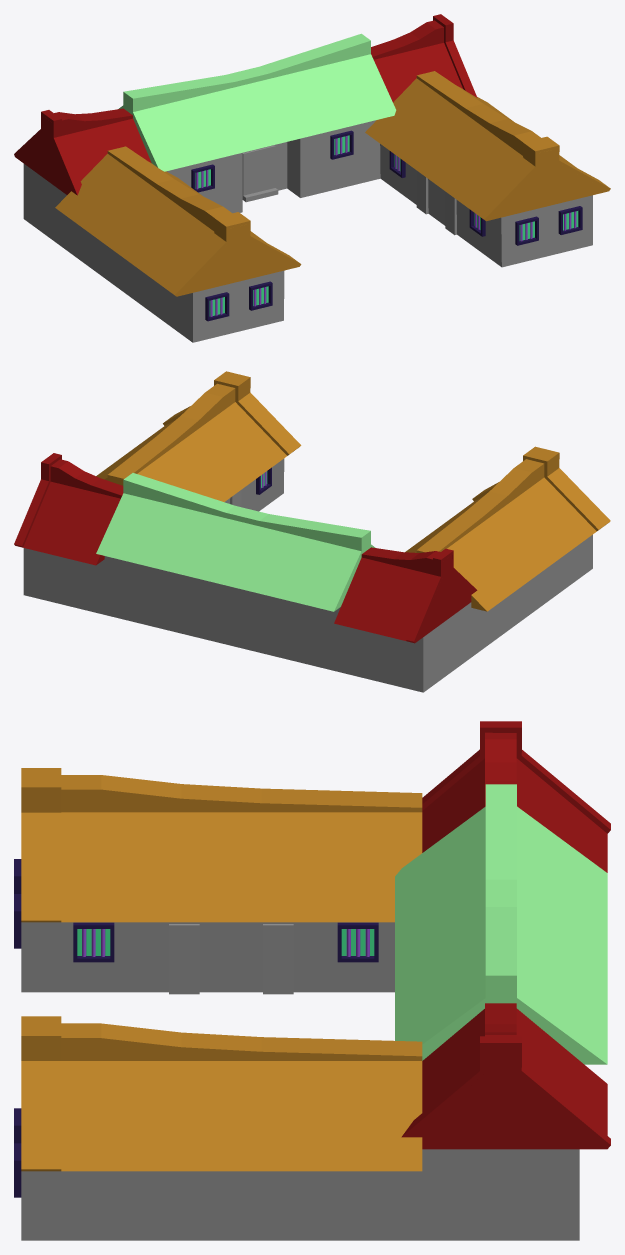
The model's file is 三合院_3.FBX.
3 renders of one model, top to bottom at view 1: azimuth 30°, elevation 25°; view 2: azimuth 150°, elevation 25°; view 3: azimuth 270°, elevation 25°, orthographic. The views are drawn at different scales.
Parts seen in each view (by area): view 1: 護龍, 祠堂, 祠堂側護龍, Box051, 4516, 4515, 4513, 4514, Box054, Box055; view 2: 祠堂, 護龍, 祠堂側護龍; view 3: 護龍, 祠堂側護龍, 祠堂, 4514, Box054, Box055, 4515, 4516.
Boxes of the visible parts, box(x1,y1,x2,y2) form: 護龍: box(55, 71, 610, 342); 祠堂: box(118, 33, 396, 213); 祠堂側護龍: box(14, 14, 477, 253); Box051: box(242, 145, 275, 195); 4516: box(205, 206, 582, 321); 4515: box(249, 216, 538, 310); 4513: box(191, 130, 353, 192); 4514: box(389, 151, 485, 236); Box054: box(416, 171, 428, 214); Box055: box(445, 191, 456, 235); 祠堂: box(96, 473, 375, 672); 護龍: box(96, 371, 610, 657); 祠堂側護龍: box(14, 453, 477, 692); 護龍: box(21, 768, 422, 1240); 祠堂側護龍: box(401, 721, 610, 1240); 祠堂: box(395, 784, 607, 1064); 4514: box(73, 922, 378, 962); Box054: box(263, 924, 293, 994); Box055: box(169, 924, 199, 994); 4515: box(14, 894, 21, 1143); 4516: box(14, 859, 21, 1197).
Bounding box in the file's own units: 405 × 108 × 291.
